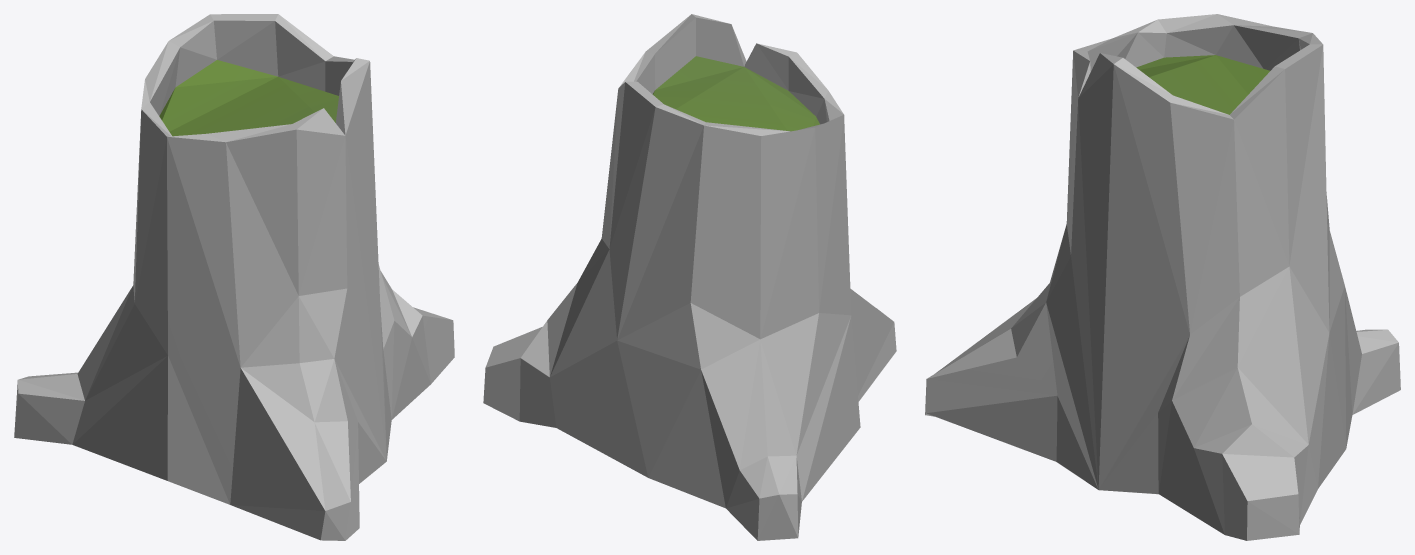
File: Stump_02.fbx
3 views of the same model, side by side, from view 1: azimuth 30°, elevation 25°; view 2: azimuth 150°, elevation 25°; view 3: azimuth 270°, elevation 25° (orthographic). The views are drawn at different scales.
Visible parts, largest first — view 1: Stump_02; view 2: Stump_02; view 3: Stump_02.
Part boxes in pixels (<box>): Stump_02: <box>14,14,454,540</box>; Stump_02: <box>483,14,896,540</box>; Stump_02: <box>925,14,1400,540</box>.
Bounding box in the file's own units: 0.7287 × 0.7482 × 0.7428.
